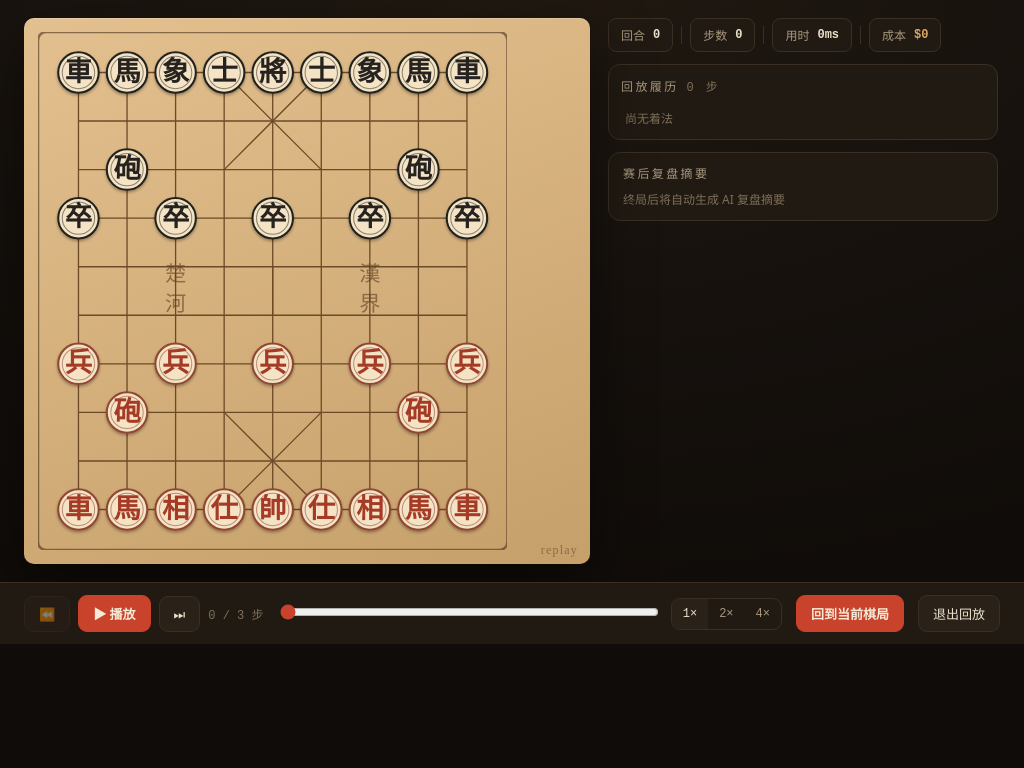
Test: Replay 视图 › 拖动到 finish seq:终局横幅含「单局·未换色」注记、复盘缺位降级提示
Set the slider with test id "replay-slider" to "4" at (651, 612), box [280,604,659,620]
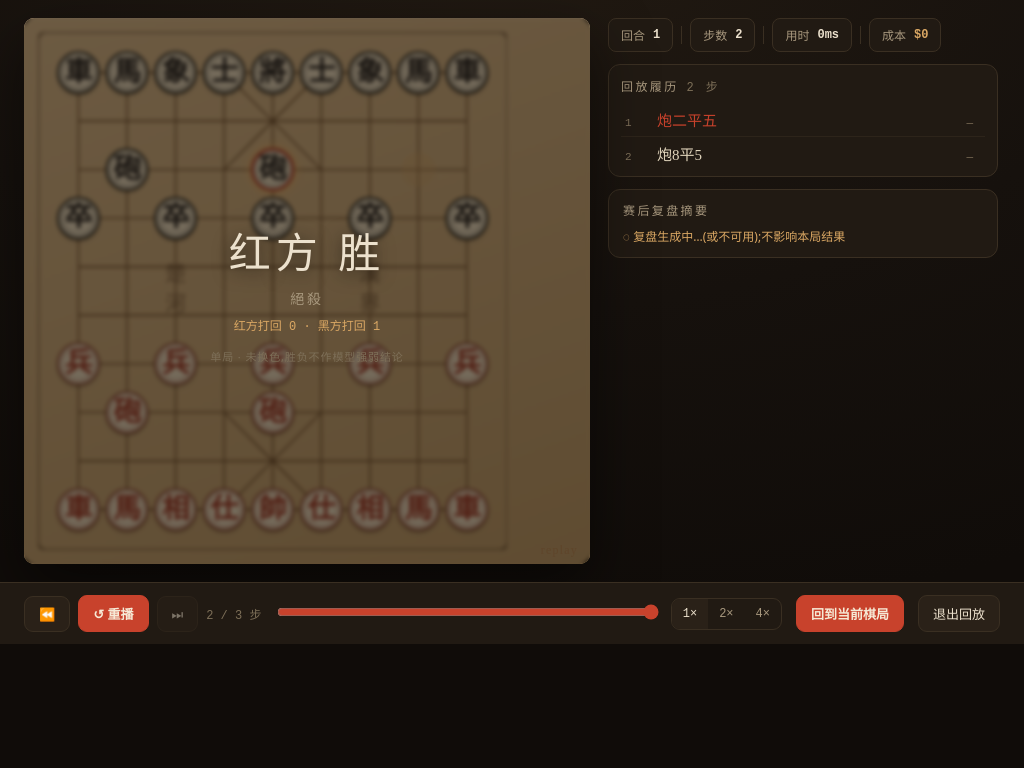
Expected: the text with test id "replay-result" reads "红方 胜", [229,230,385,276]
Expected: the text with test id "replay-note" reads "单局 · 未换色,胜负不作模型强弱结论", [210,348,404,364]
Expected: the text with test id "review-degraded" reads "复盘生成中…(或不可用);不影响本局结果", [633,228,845,245]
